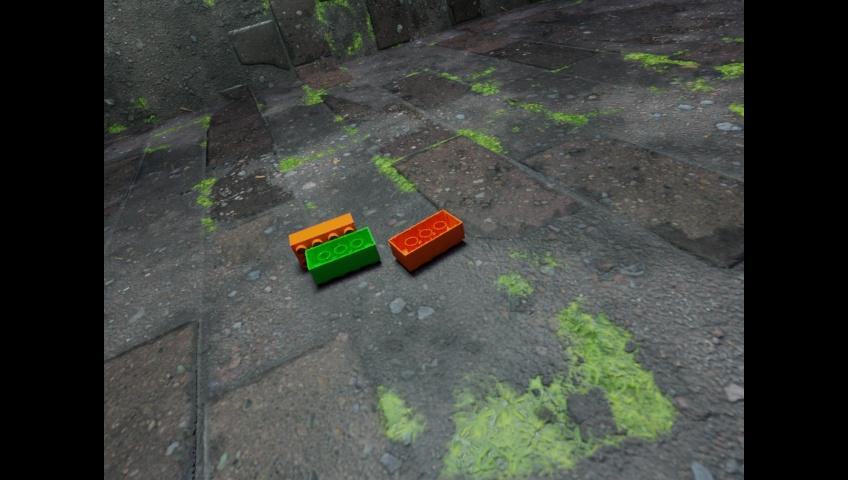4x2_green: (305, 227, 379, 284)
4x2_orange: (388, 209, 464, 271), (289, 212, 356, 268)
